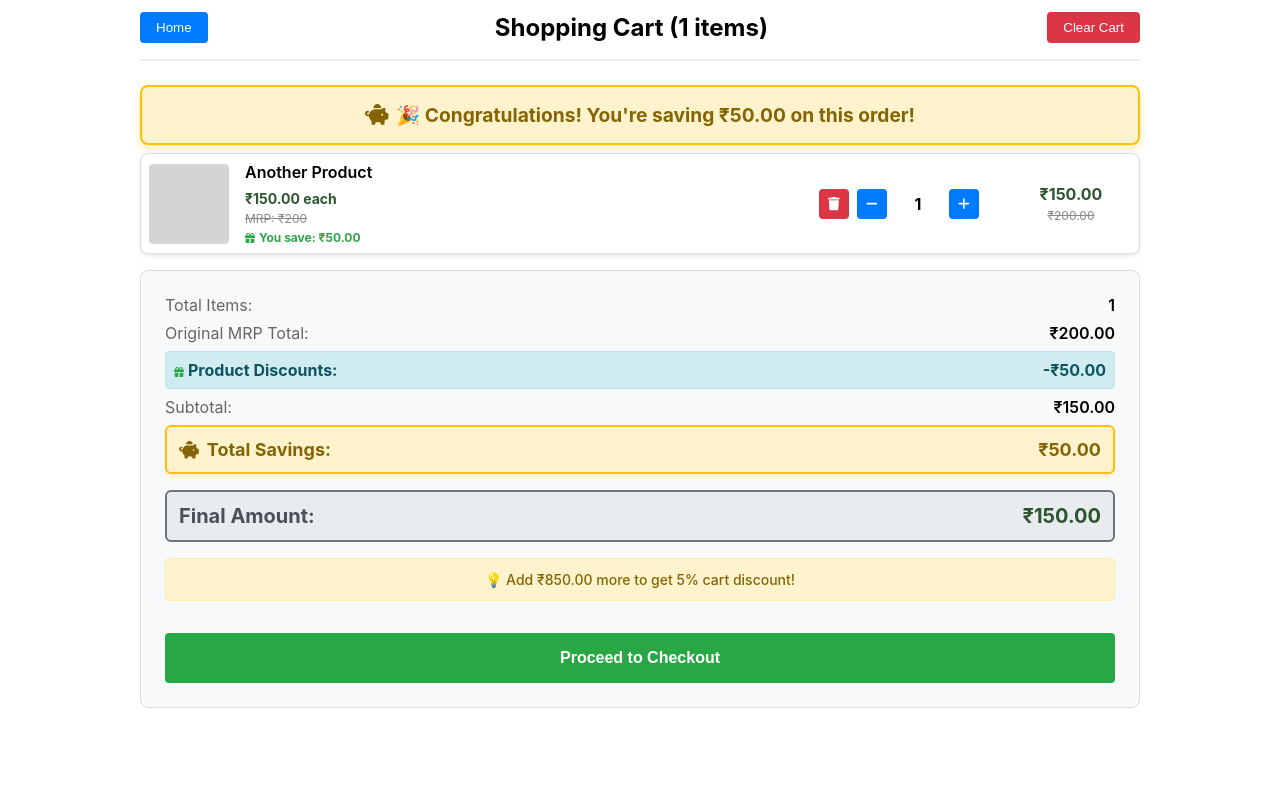
Test: Cart › clears the cart when Clear Cart button is clicked and confirmed
This screenshot has width=1280, height=812.
Click the button "Clear Cart" at (1094, 28), box [1047,12,1140,43]
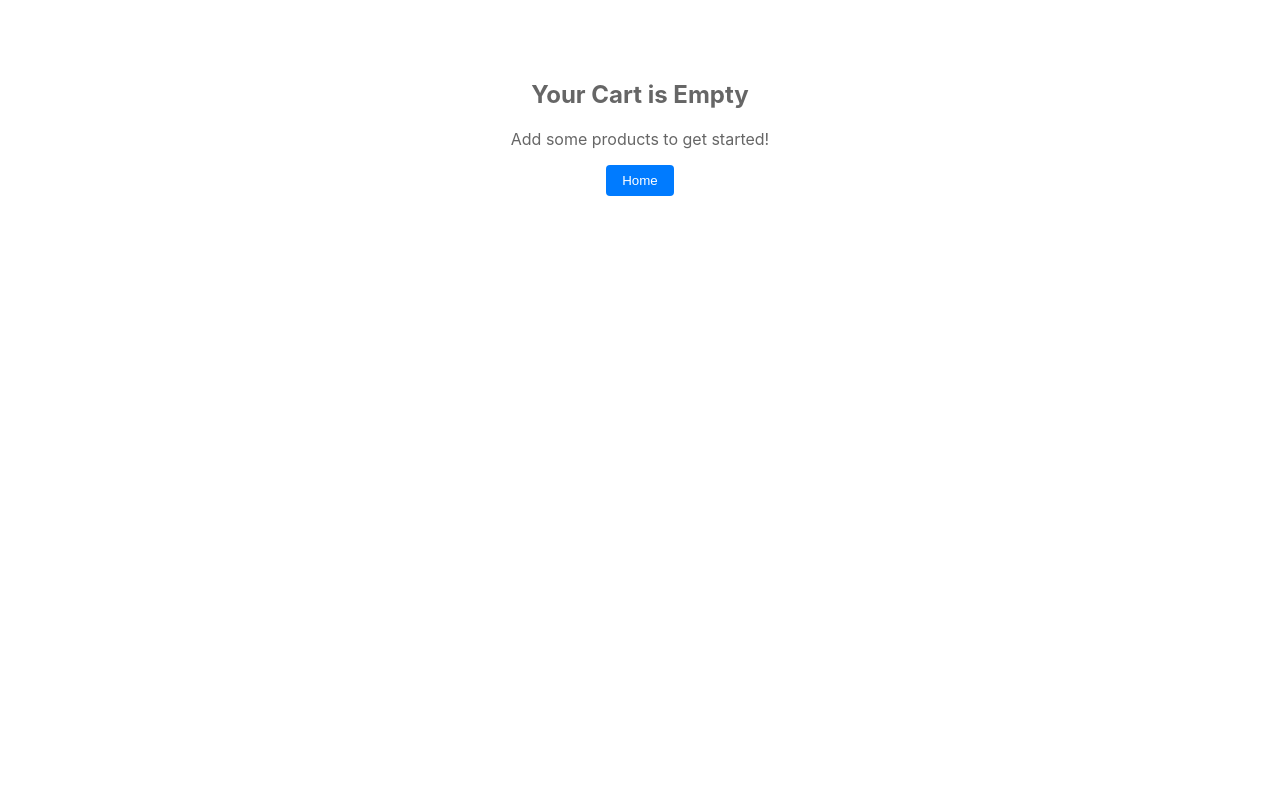
Result: the heading "Your Cart is Empty" is shown at [531,80,749,109]
